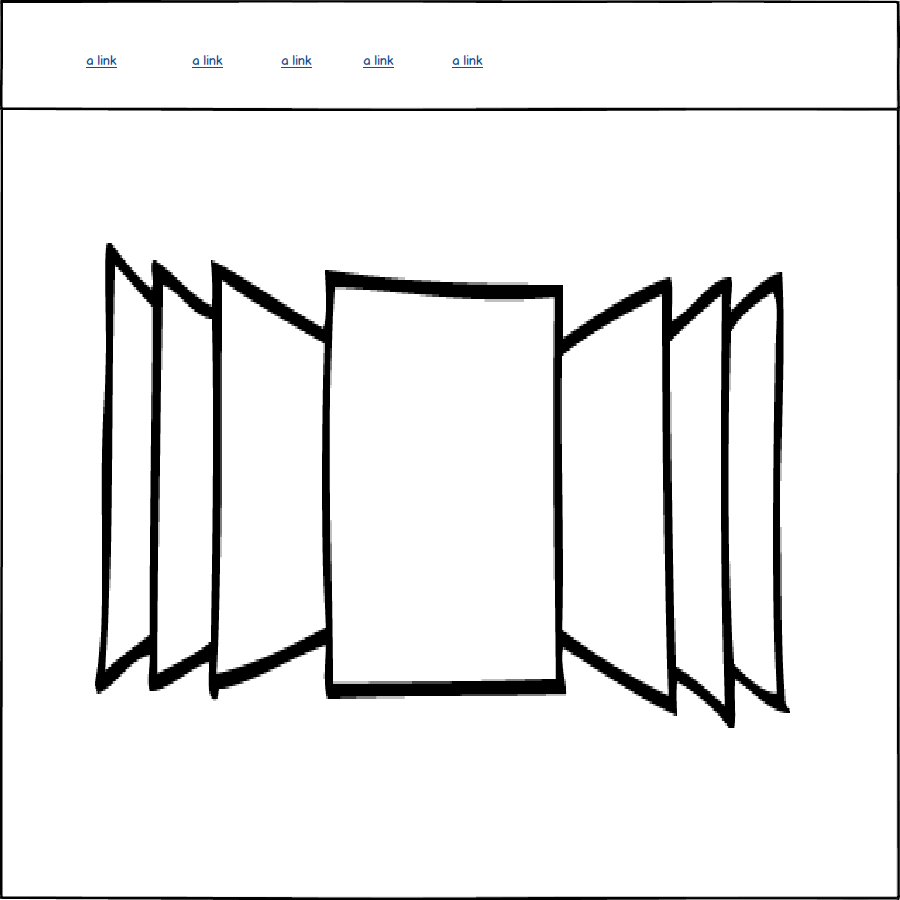navlink: (445, 48, 496, 80), (76, 44, 128, 75), (271, 48, 326, 77), (359, 45, 401, 80), (186, 48, 233, 78)
slideshow: (72, 223, 824, 748)
